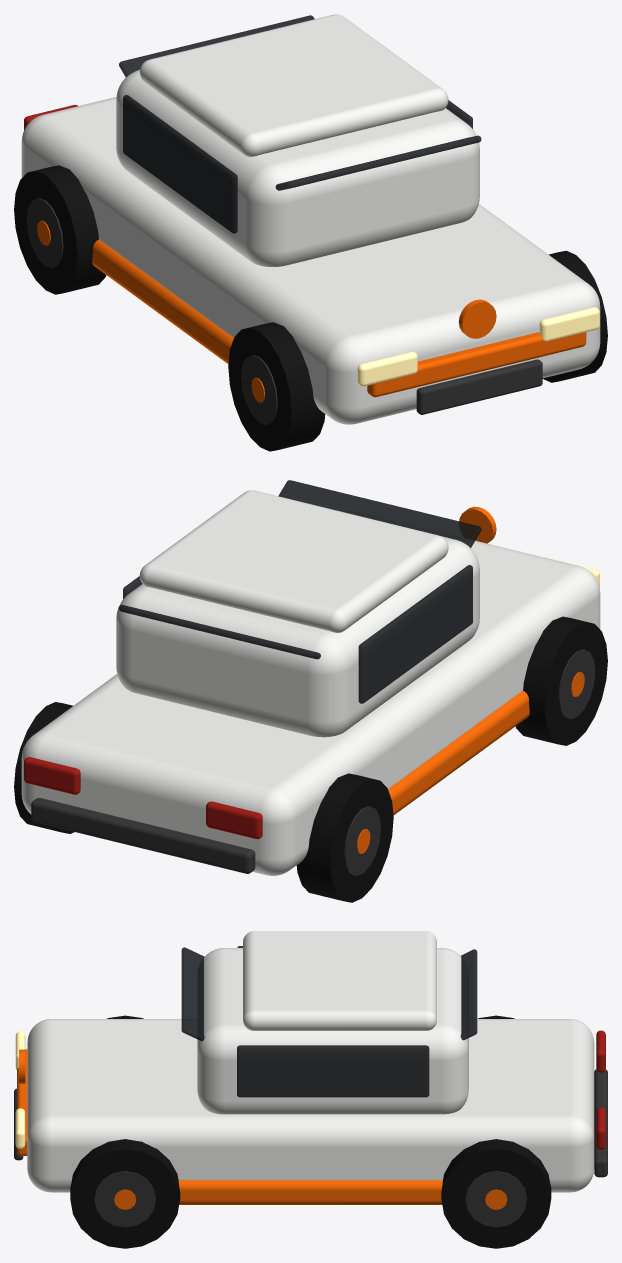
The model's file is rastreon-sedan-clean.glb.
3 views of the same model, one above another, from view 1: azimuth 30°, elevation 25°; view 2: azimuth 150°, elevation 25°; view 3: azimuth 270°, elevation 25° (orthographic). The views are drawn at different scales.
Visible parts, largest first — view 1: Carroceria, Cabine, Teto, Pneu_-0.82_1.08, VidroLateralEsquerdo, Pneu_-0.82_-1.08, FaixaFrontal, SaiasLaterais, GradeFrontal, Roda_-0.82_-1.08, Roda_-0.82_1.08, Parabrisa (+5 smaller); view 2: Carroceria, Cabine, Teto, Pneu_-0.82_-1.08, VidroLateralEsquerdo, Pneu_-0.82_1.08, ParaChoqueTraseiro, SaiasLaterais, Parabrisa, Roda_-0.82_1.08, Roda_-0.82_-1.08, VidroTraseiro (+4 smaller); view 3: Carroceria, Teto, Cabine, VidroLateralDireito, Pneu_0.82_-1.08, Pneu_0.82_1.08, SaiasLaterais, Roda_0.82_-1.08, Roda_0.82_1.08, Parabrisa, VidroTraseiro, ParaChoqueTraseiro (+1 smaller).
Boxes of the visible parts, x1,y1,x2,y2 form: Carroceria: [21, 97, 600, 424]; Cabine: [116, 70, 479, 266]; Teto: [139, 14, 448, 156]; Pneu_-0.82_1.08: [228, 322, 325, 451]; VidroLateralEsquerdo: [123, 95, 237, 233]; Pneu_-0.82_-1.08: [14, 165, 106, 294]; FaixaFrontal: [367, 332, 586, 397]; SaiasLaterais: [92, 239, 233, 364]; GradeFrontal: [416, 359, 542, 414]; Roda_-0.82_-1.08: [26, 198, 63, 267]; Roda_-0.82_1.08: [241, 355, 277, 424]; Parabrisa: [275, 135, 481, 190]; Carroceria: [21, 540, 600, 875]; Cabine: [116, 536, 479, 737]; Teto: [139, 490, 448, 632]; Pneu_-0.82_-1.08: [296, 773, 393, 902]; VidroLateralEsquerdo: [358, 565, 472, 703]; Pneu_-0.82_1.08: [515, 616, 607, 745]; ParaChoqueTraseiro: [31, 797, 255, 873]; SaiasLaterais: [388, 691, 529, 815]; Parabrisa: [278, 480, 481, 547]; Roda_-0.82_1.08: [558, 649, 595, 719]; Roda_-0.82_-1.08: [344, 806, 380, 875]; VidroTraseiro: [119, 605, 320, 659]; Carroceria: [27, 1019, 594, 1192]; Teto: [243, 931, 436, 1030]; Cabine: [197, 948, 468, 1114]; VidroLateralDireito: [237, 1045, 429, 1097]; Pneu_0.82_-1.08: [441, 1139, 551, 1248]; Pneu_0.82_1.08: [70, 1139, 180, 1248]; SaiasLaterais: [178, 1180, 442, 1204]; Roda_0.82_-1.08: [465, 1171, 527, 1227]; Roda_0.82_1.08: [94, 1171, 155, 1227]; Parabrisa: [181, 947, 204, 1041]; VidroTraseiro: [460, 949, 477, 1040]; ParaChoqueTraseiro: [594, 1069, 607, 1177].
Bounding box in the file's own units: 1.86 × 1.35 × 3.46.
